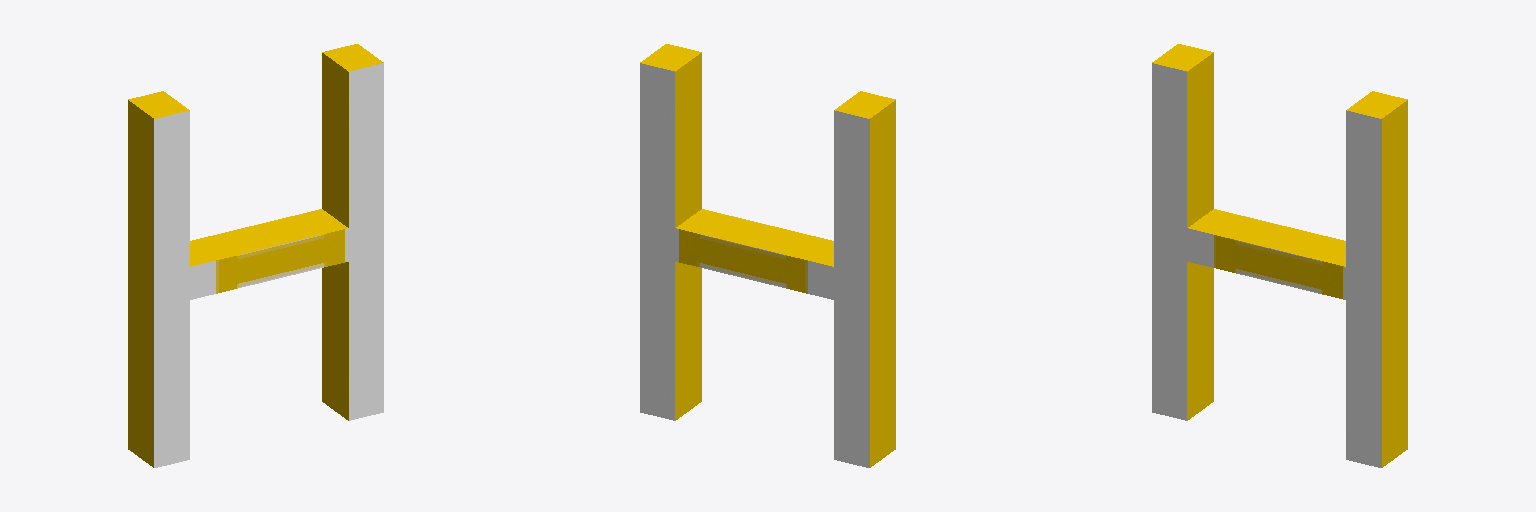
The picture shows the model from 3 angles: view 1: azimuth 30°, elevation 25°; view 2: azimuth 150°, elevation 25°; view 3: azimuth 330°, elevation 25°; orthographic projection.
Size of the model in its own units: 55.49 by 80.63 by 11.1.
5 materials, 1 textured.